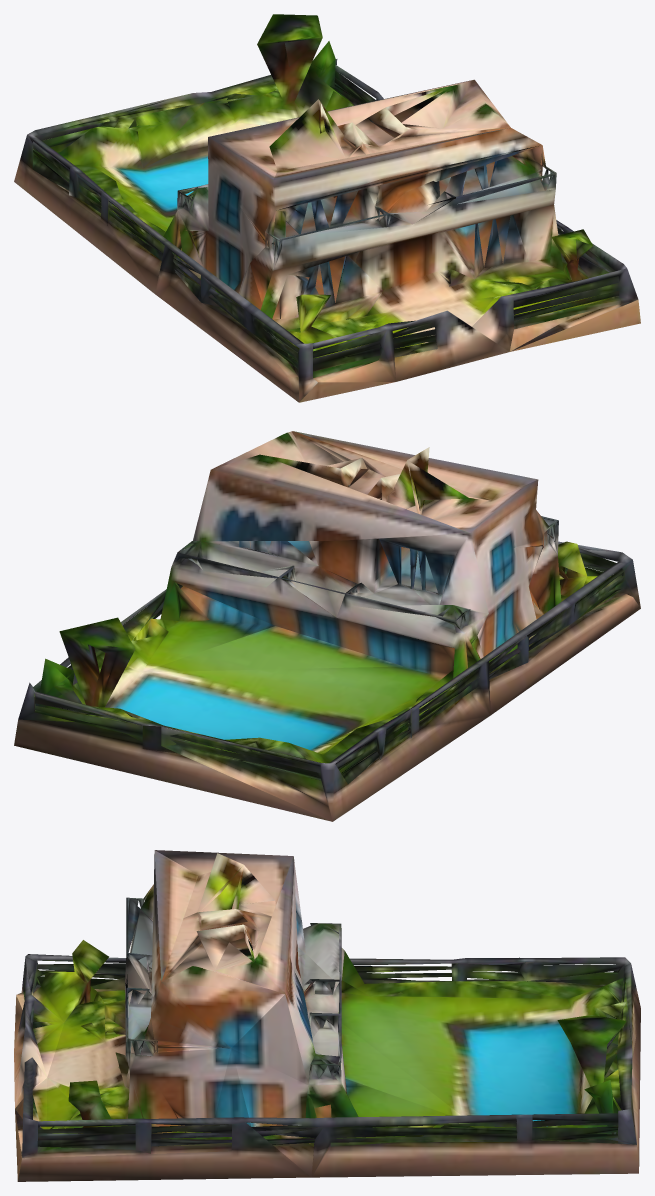
File: house-villa.far.glb
3 views of the same model, one above another, from view 1: azimuth 30°, elevation 25°; view 2: azimuth 150°, elevation 25°; view 3: azimuth 270°, elevation 25° (orthographic). The views are drawn at different scales.
Parts seen in each view (by area): view 1: low; view 2: low; view 3: low.
Part boxes in pixels (bbox=[...]): low: bbox=[14, 14, 640, 402]; low: bbox=[14, 431, 640, 821]; low: bbox=[14, 850, 640, 1181].
Size of the model in its own units: 0.6492 by 0.3704 by 0.9829.
1 material, 1 textured.
